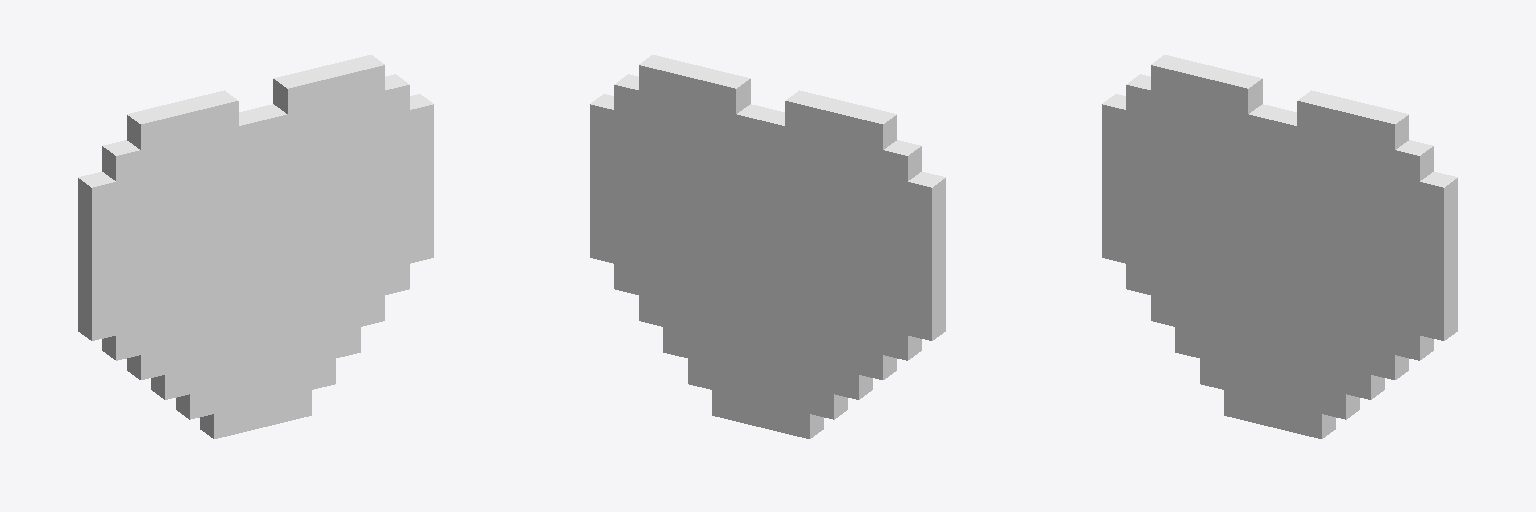
Rendered from Life.obj.
The picture shows the model from 3 angles: view 1: azimuth 30°, elevation 25°; view 2: azimuth 150°, elevation 25°; view 3: azimuth 330°, elevation 25°; orthographic projection.
Bounding box in the file's own units: 14 × 13 × 1.